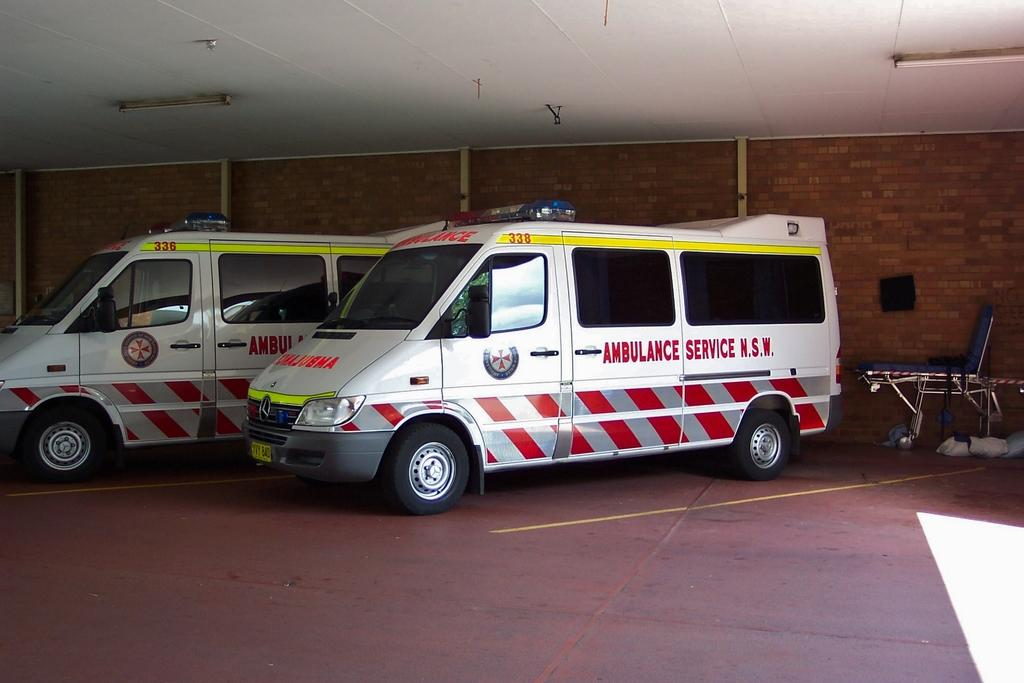Ambulance: (248, 211, 844, 510), (0, 211, 455, 480)
